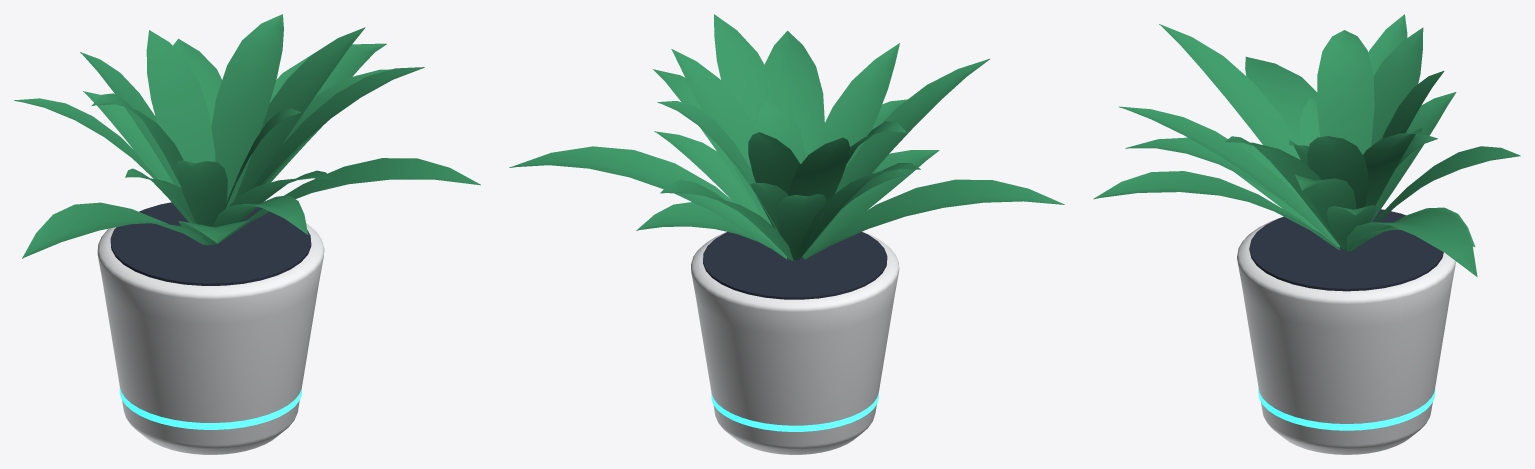
File: plant.glb
The picture shows the model from 3 angles, left to right: view 1: azimuth 30°, elevation 25°; view 2: azimuth 150°, elevation 25°; view 3: azimuth 270°, elevation 25°; orthographic projection. The views are drawn at different scales.
Parts seen in each view (by area): view 1: plant; view 2: plant; view 3: plant.
Boxes of the visible parts, x1=… form: plant: x1=14, y1=14, x2=480, y2=454; plant: x1=509, y1=14, x2=1064, y2=454; plant: x1=1093, y1=14, x2=1520, y2=454.
Bounding box in the file's own units: 1.6 × 1.17 × 1.26.
